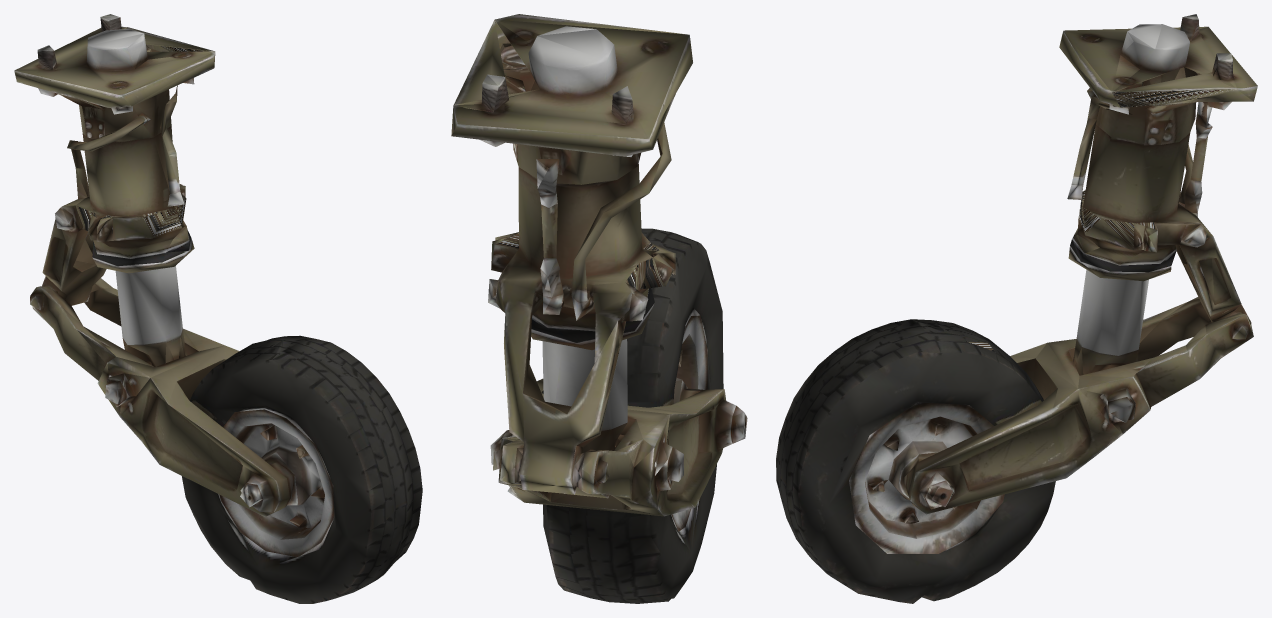
File: tailwheel.glb
3 renders of one model, left to right at view 1: azimuth 30°, elevation 25°; view 2: azimuth 150°, elevation 25°; view 3: azimuth 270°, elevation 25°, orthographic. The views are drawn at different scales.
Parts seen in each view (by area): view 1: tripo_node_90c71c8a-5461-49e1-9a31-c0272; view 2: tripo_node_90c71c8a-5461-49e1-9a31-c0272; view 3: tripo_node_90c71c8a-5461-49e1-9a31-c0272.
Part boxes in pixels (<box>): tripo_node_90c71c8a-5461-49e1-9a31-c0272: <box>14,14,422,603</box>; tripo_node_90c71c8a-5461-49e1-9a31-c0272: <box>451,14,747,603</box>; tripo_node_90c71c8a-5461-49e1-9a31-c0272: <box>776,14,1257,603</box>.
Size of the model in its own units: 0.4635 by 0.9947 by 0.8354.
1 material, 1 textured.
